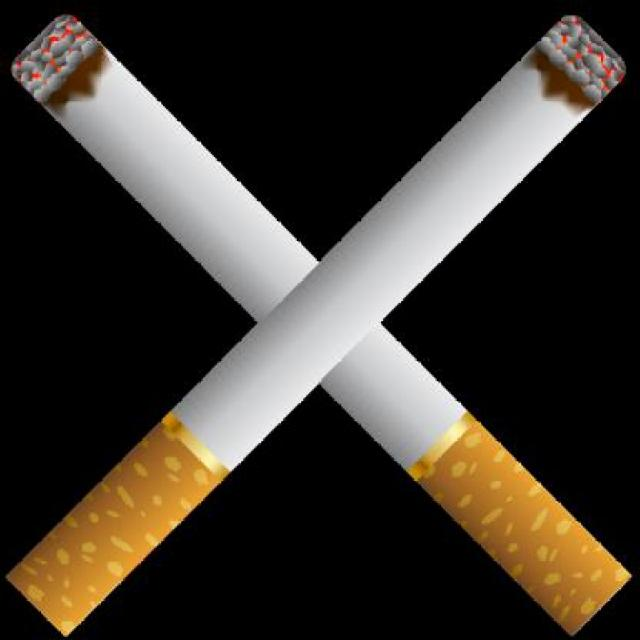cigarette: (6, 22, 631, 602), (27, 20, 613, 608)
